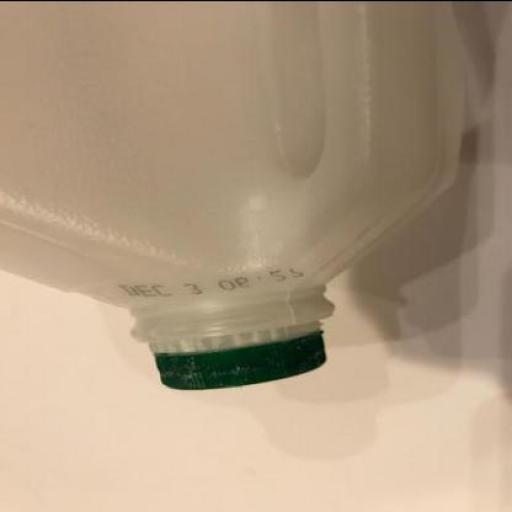plastic: (0, 1, 464, 388), (147, 322, 326, 388)
